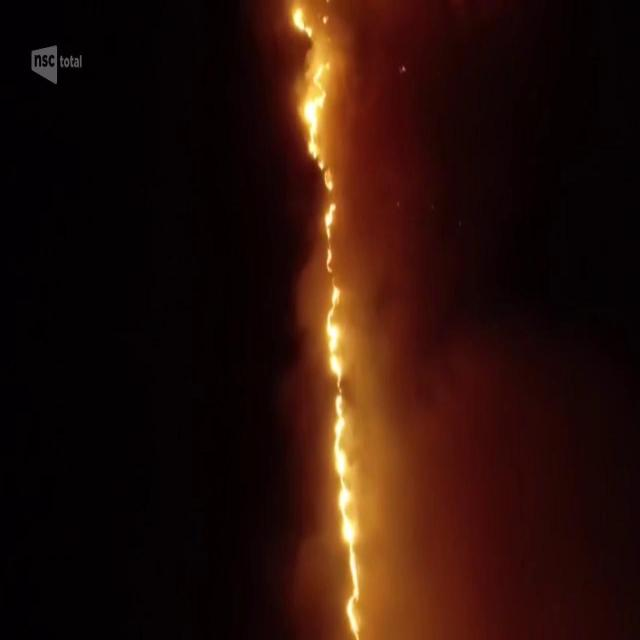Fire: (293, 10, 374, 640)
